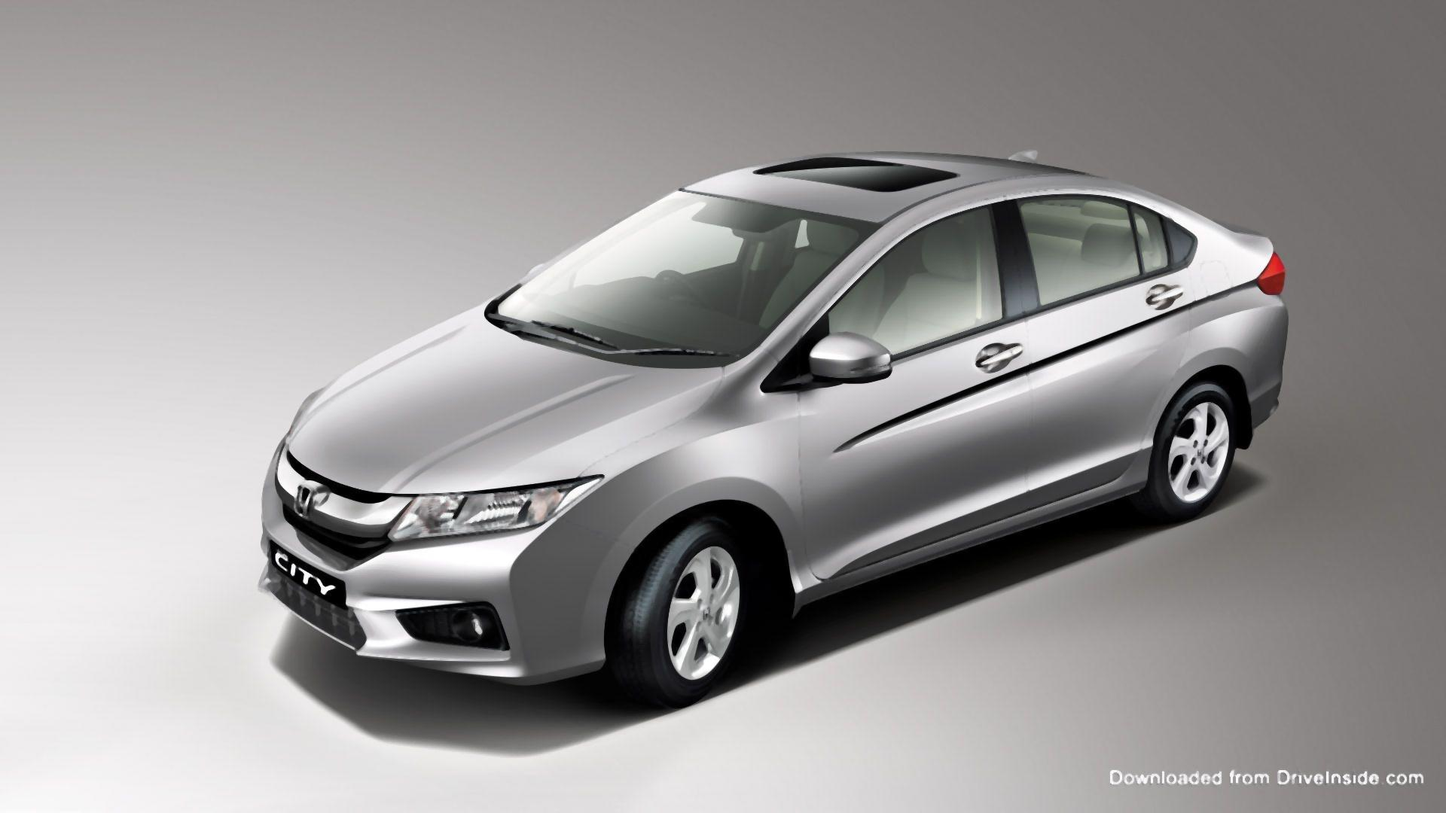Car hood: (279, 299, 719, 491)
Fender - -F-L-: (551, 341, 821, 622)
Fender - -R-L-: (1171, 221, 1281, 385)
Front bumper: (249, 532, 608, 688)
Headlight - -L-: (379, 470, 608, 551)
Passenger-s door - -F-L-: (797, 190, 1030, 575)
Passenger-s door - -R-L-: (1016, 177, 1182, 512)
Rear bumper: (1215, 295, 1306, 442)
Rear light - -L-: (1249, 236, 1296, 306)
Side bumper - -L-: (790, 450, 1203, 615)
Side mirror - -L-: (804, 324, 898, 391)
